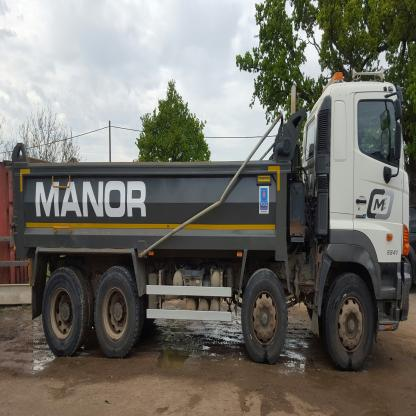dump_truck: (11, 54, 416, 384)
